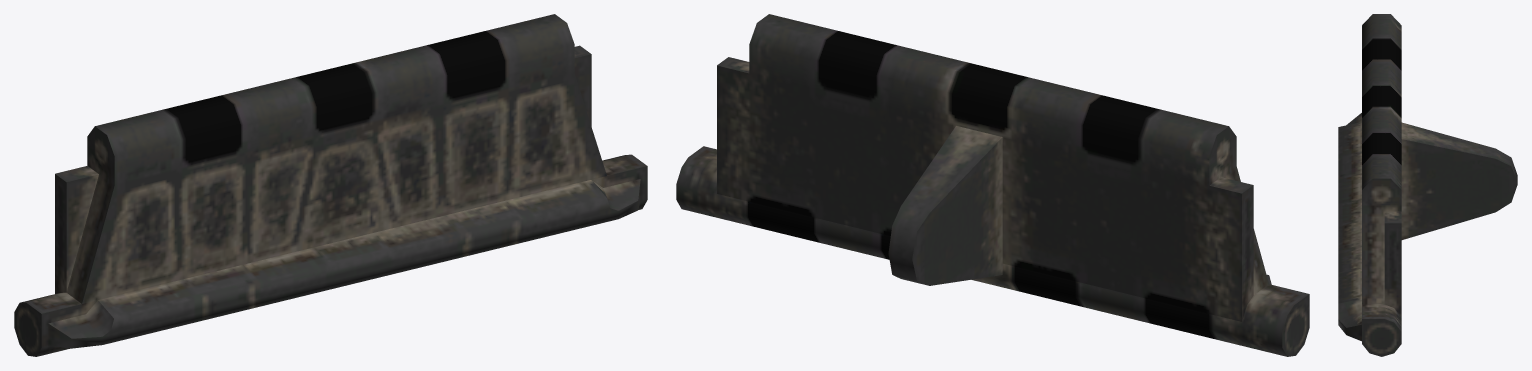
The model's file is T_27_track.glb.
3 renders of one model, left to right at view 1: azimuth 30°, elevation 25°; view 2: azimuth 150°, elevation 25°; view 3: azimuth 270°, elevation 25°, orthographic. The views are drawn at different scales.
Parts seen in each view (by area): view 1: set_0_group_0; view 2: set_0_group_0; view 3: set_0_group_0.
Boxes of the visible parts, bbox=[...] form: set_0_group_0: bbox=[14, 14, 647, 356]; set_0_group_0: bbox=[676, 14, 1309, 356]; set_0_group_0: bbox=[1338, 14, 1517, 356].
Size of the model in its own units: 0.45 by 0.1471 by 0.1574.
1 material, 1 textured.
